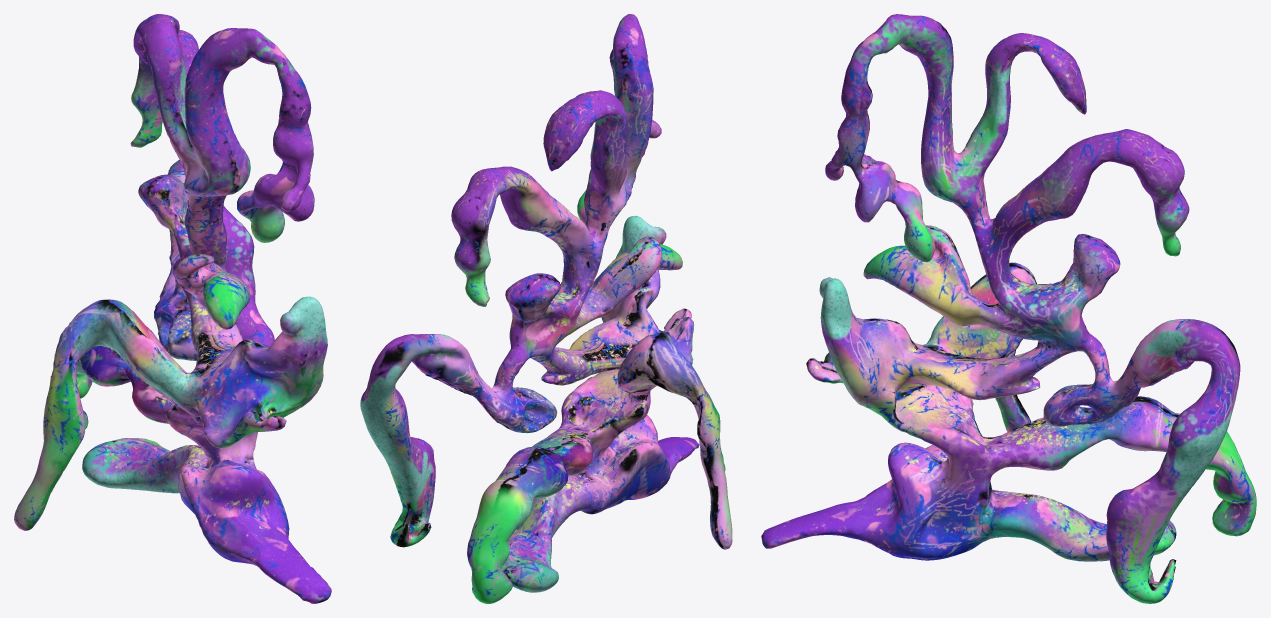
The model's file is shr-tree.glb.
The picture shows the model from 3 angles, left to right: view 1: azimuth 30°, elevation 25°; view 2: azimuth 150°, elevation 25°; view 3: azimuth 270°, elevation 25°; orthographic projection. The views are drawn at different scales.
Visible parts, largest first — view 1: geometry_0; view 2: geometry_0; view 3: geometry_0.
Part boxes in pixels (x1,y1,x2,y2): geometry_0: (14, 14, 331, 603); geometry_0: (360, 14, 732, 603); geometry_0: (761, 14, 1256, 603).
Size of the model in its own units: 0.6193 by 1 by 0.8259.
Materials: 1 (1 with a texture image).
